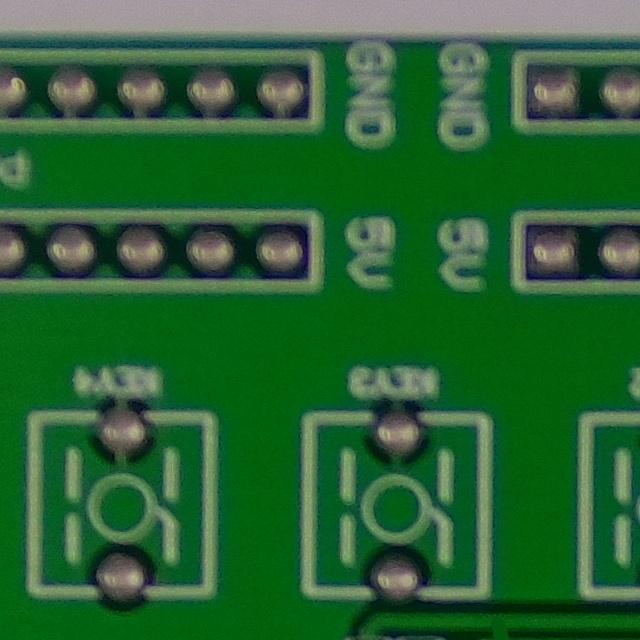short: (466, 606, 530, 640)
